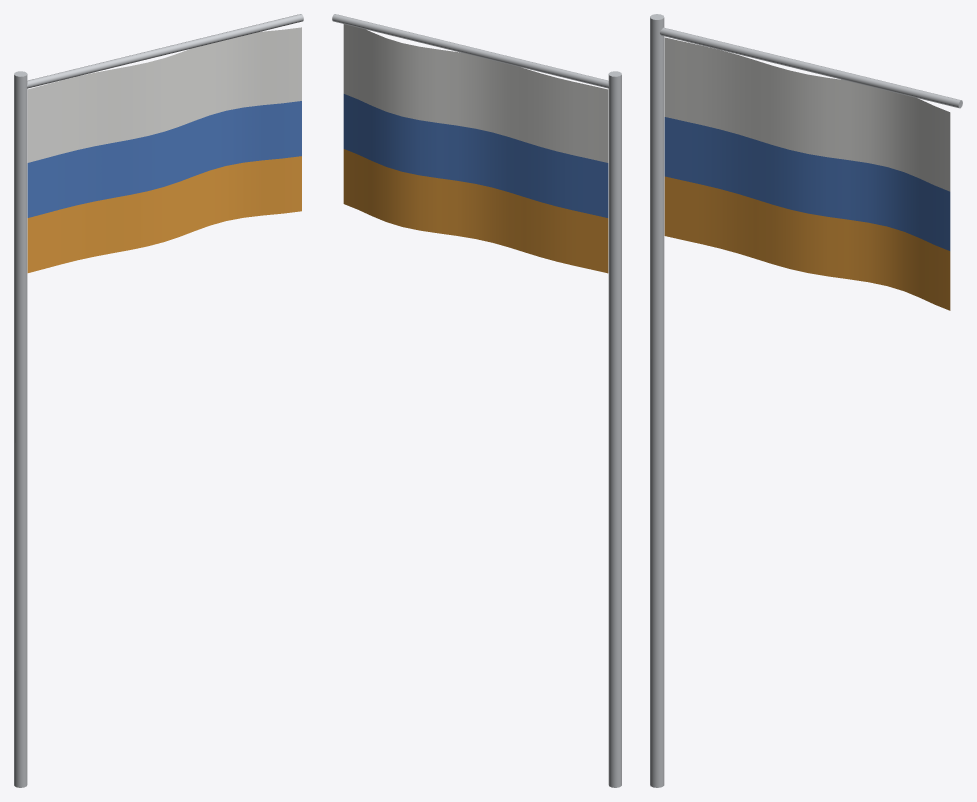
The model's file is Flag.fbx.
3 renders of one model, left to right at view 1: azimuth 30°, elevation 25°; view 2: azimuth 150°, elevation 25°; view 3: azimuth 330°, elevation 25°, orthographic. The views are drawn at different scales.
Parts seen in each view (by area): view 1: Flag; view 2: Flag; view 3: Flag.
Part boxes in pixels (<box>): Flag: <box>14,14,303,787</box>; Flag: <box>332,14,621,787</box>; Flag: <box>650,14,962,787</box>.
Bounding box in the file's own units: 1.22 × 2.9 × 0.0659.
